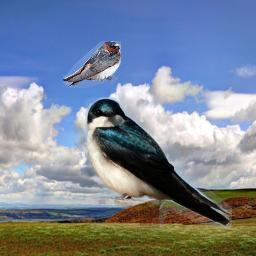Swallow: (85, 97, 232, 228), (63, 41, 121, 88)
